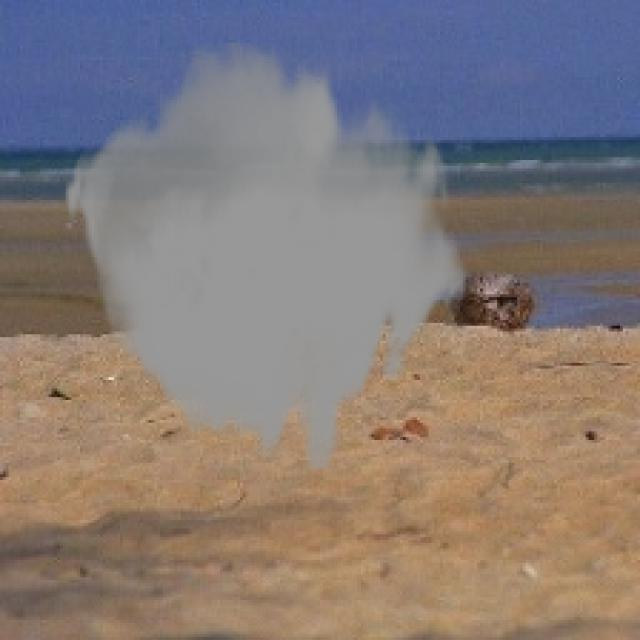Smoke: (62, 42, 468, 468)
